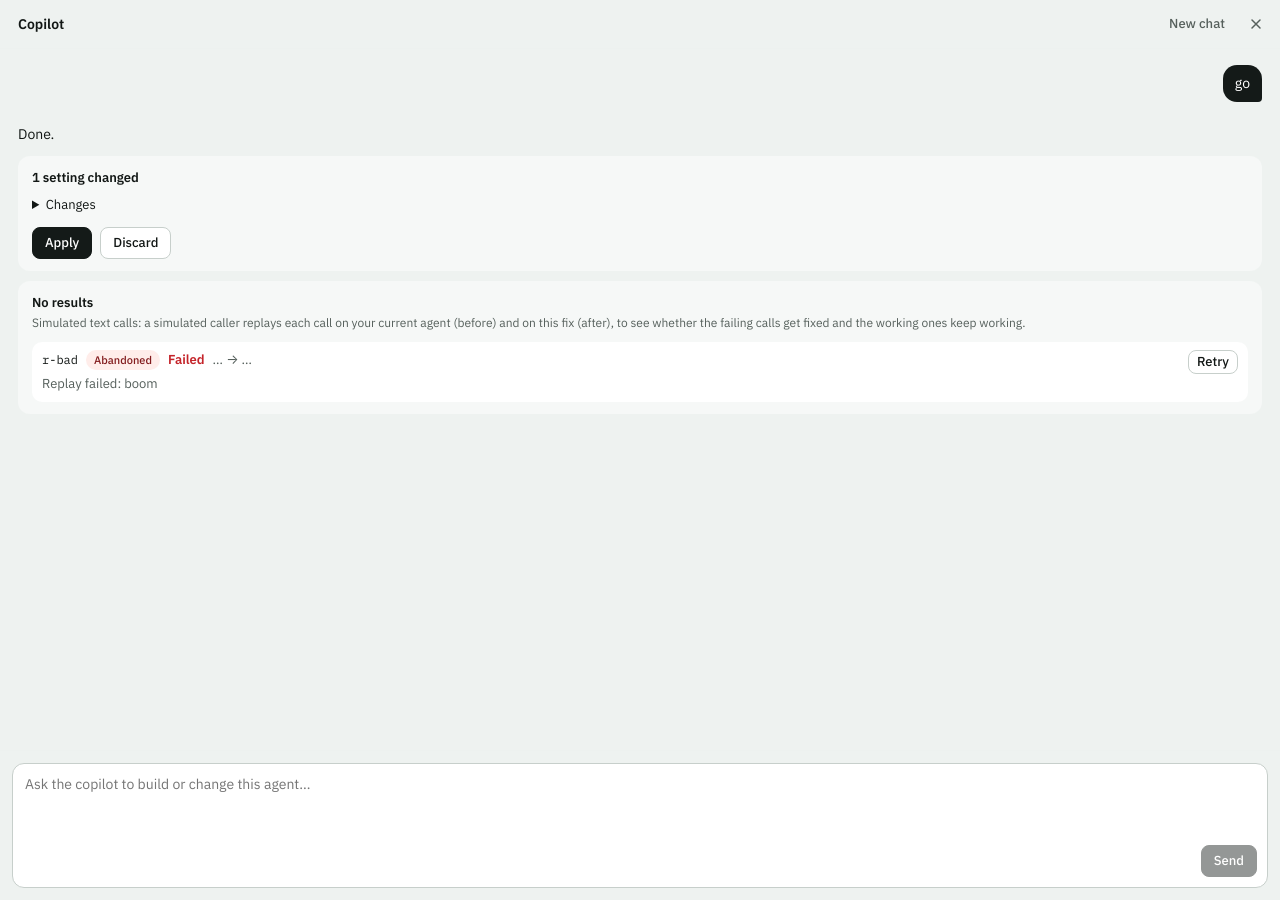
Test: ReplayCard › shows a failed row with its error and Retry, which replays that run
Check: the text "Replay failed: boom" is shown, box left=42, top=375, right=158, bottom=392
Click the button "Retry".
click(1213, 362)  # box left=1188, top=350, right=1238, bottom=374
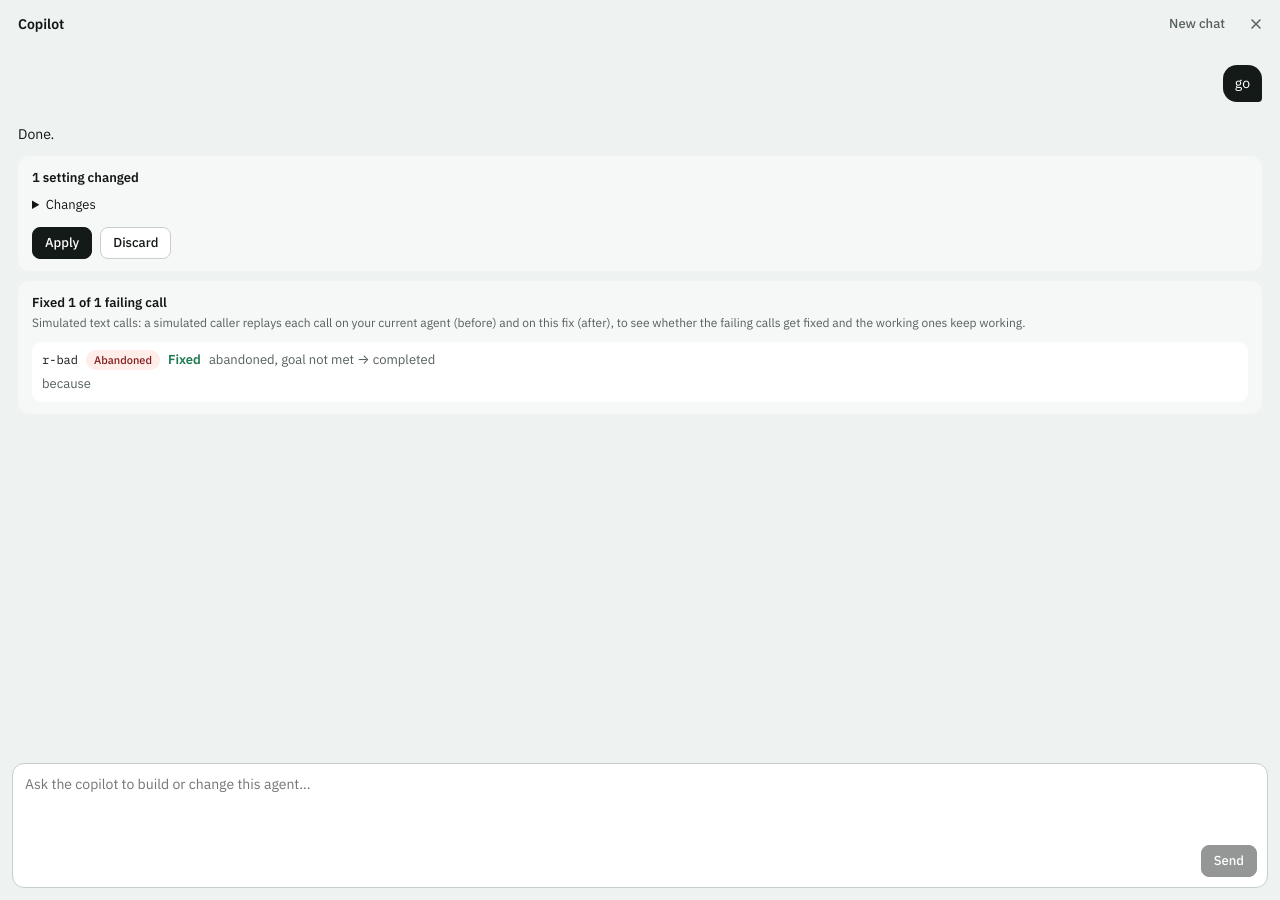
Check: the text "Fixed 1 of 1 failing call" is shown, box left=32, top=294, right=167, bottom=311
